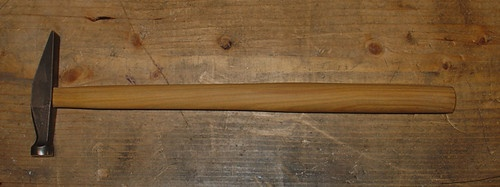hammer: (29, 30, 455, 156)
